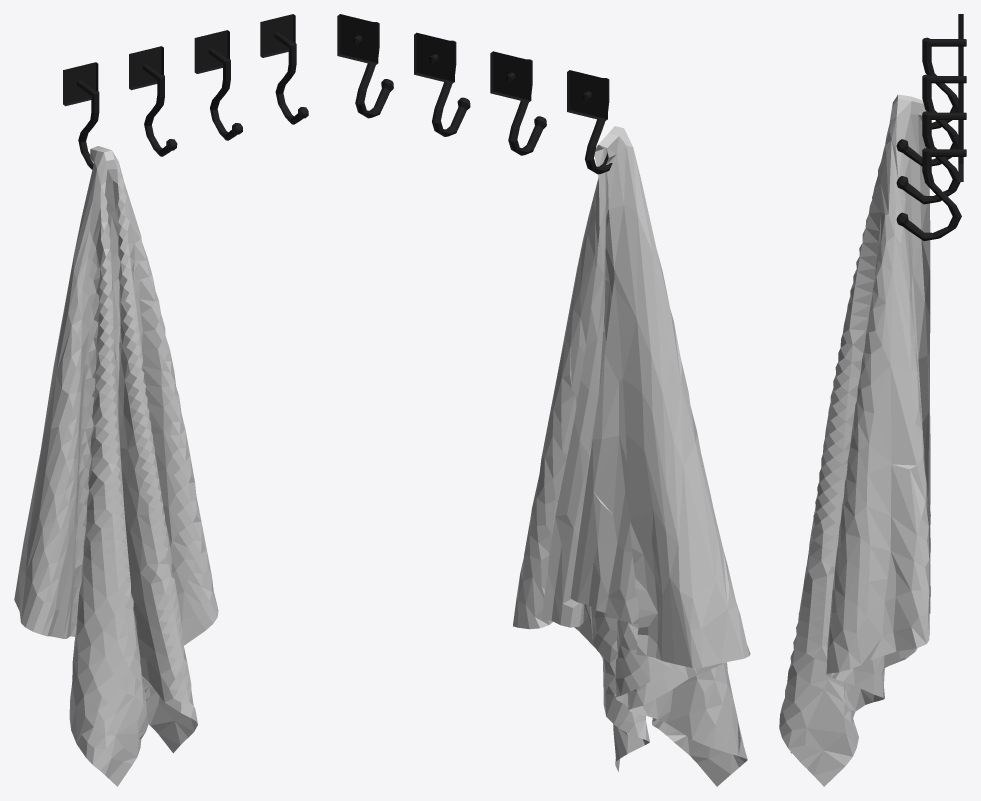
Rendered from Toalla.fbx.
3 renders of one model, left to right at view 1: azimuth 30°, elevation 25°; view 2: azimuth 150°, elevation 25°; view 3: azimuth 270°, elevation 25°, orthographic. The views are drawn at different scales.
Parts seen in each view (by area): view 1: Plane.002, Cylinder.007; view 2: Plane.002, Cylinder.007; view 3: Plane.002, Cylinder.007.
Boxes of the visible parts, left/top/right/bottom form: Plane.002: left=14, top=146, right=218, bottom=786; Cylinder.007: left=63, top=14, right=308, bottom=169; Plane.002: left=513, top=126, right=750, bottom=786; Cylinder.007: left=337, top=14, right=612, bottom=174; Plane.002: left=779, top=94, right=930, bottom=786; Cylinder.007: left=896, top=14, right=966, bottom=240.
Bounding box in the file's own units: 54.67 × 24.9 × 110.
